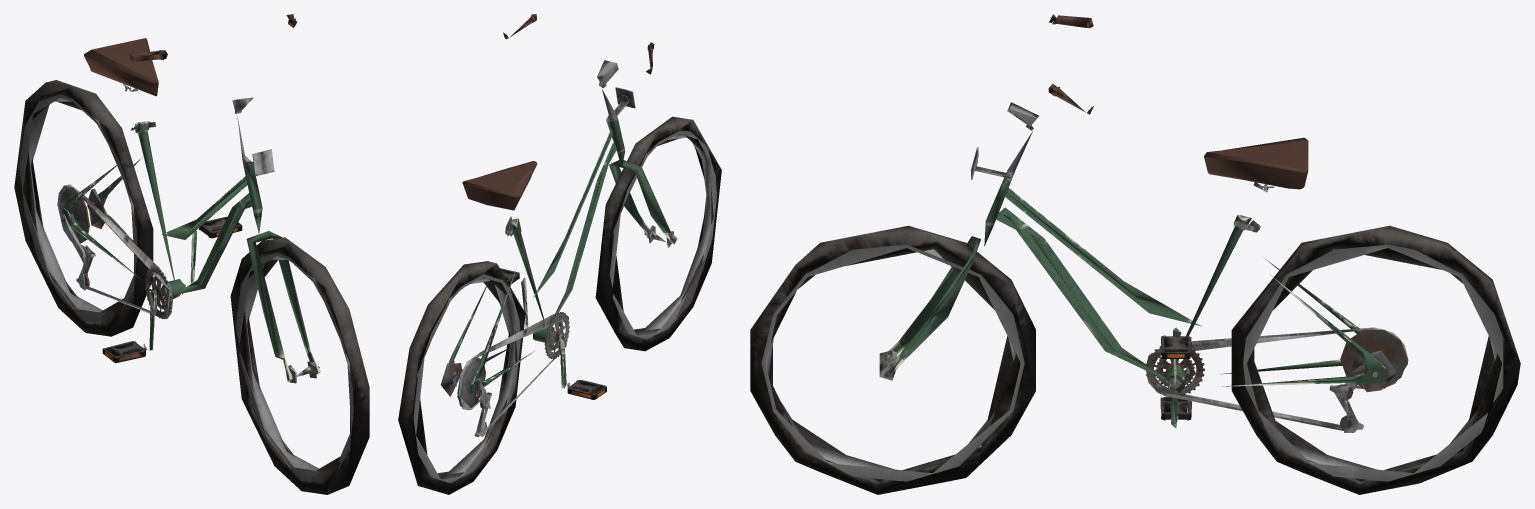
Rendered from bicycle.glb.
3 renders of one model, left to right at view 1: azimuth 30°, elevation 25°; view 2: azimuth 150°, elevation 25°; view 3: azimuth 270°, elevation 25°, orthographic. The views are drawn at different scales.
Bounding box in the file's own units: 0.4789 × 1.11 × 1.74.
1 material, 1 textured.
